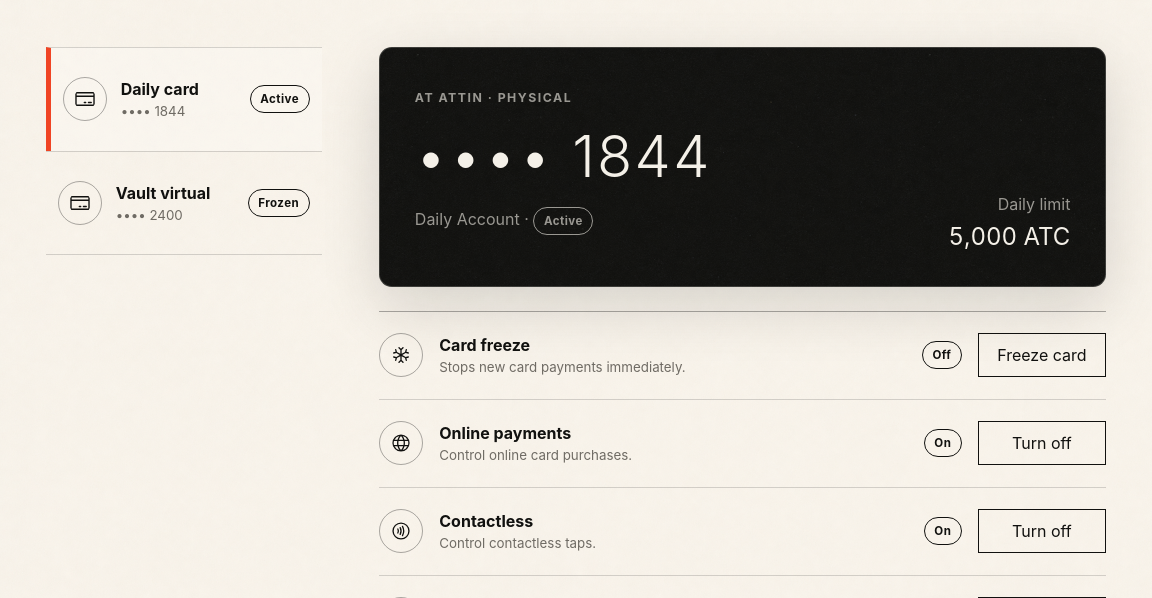
it: complete At Attin product experience › prepares and confirms a card freeze from the cards destination
Later steps or results of the test are not shown.
(page scrolled)
Click the button "Freeze card" at (1042,355), box [978,333,1106,377]
(page scrolled)
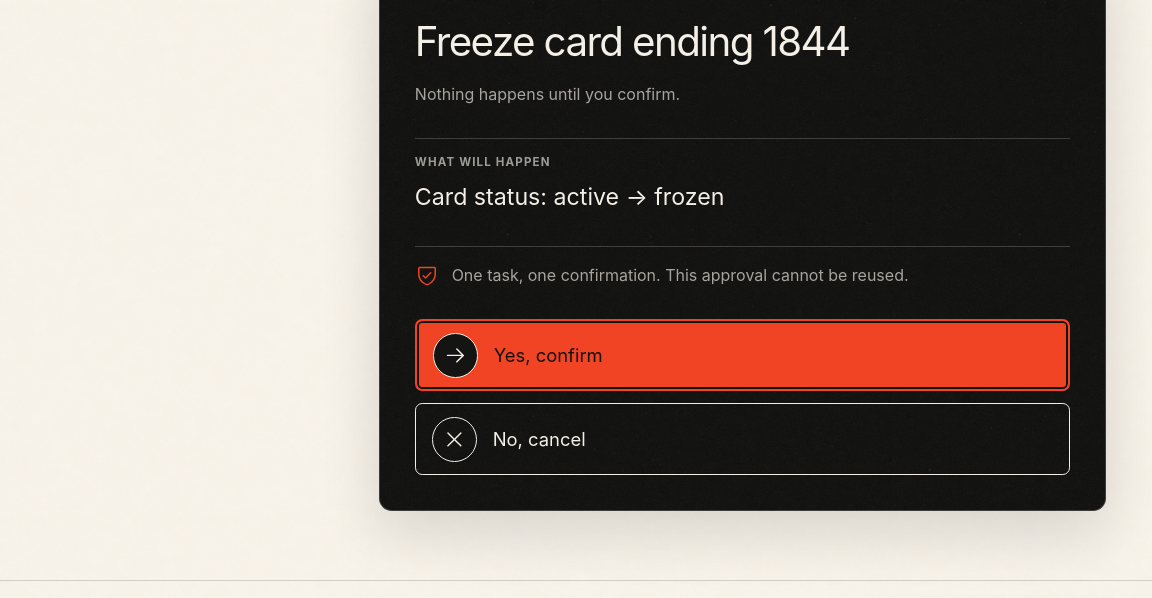
Expected: the list item "Card status: active → frozen" is shown, [415,183,724,211]
